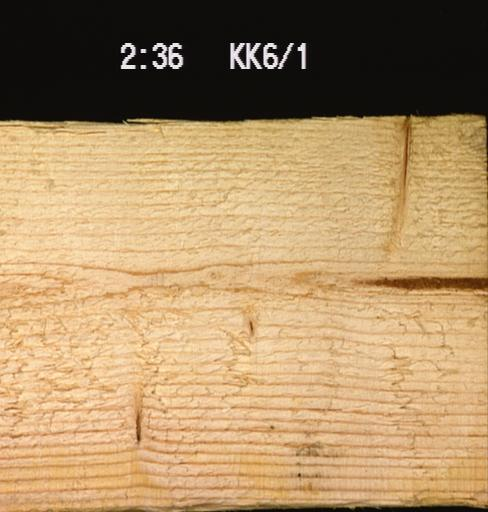small_knot: (234, 313, 265, 346)
split: (0, 120, 112, 138)
